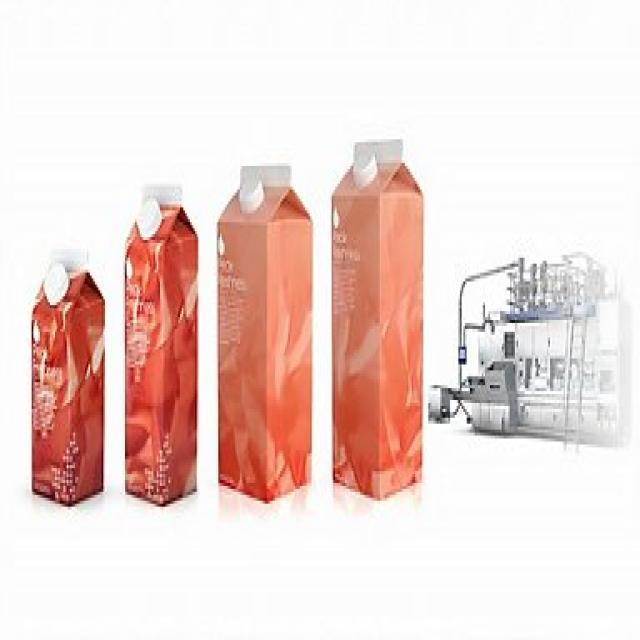Carton: (208, 158, 318, 514), (328, 132, 432, 504), (119, 164, 202, 508), (23, 233, 115, 521)
